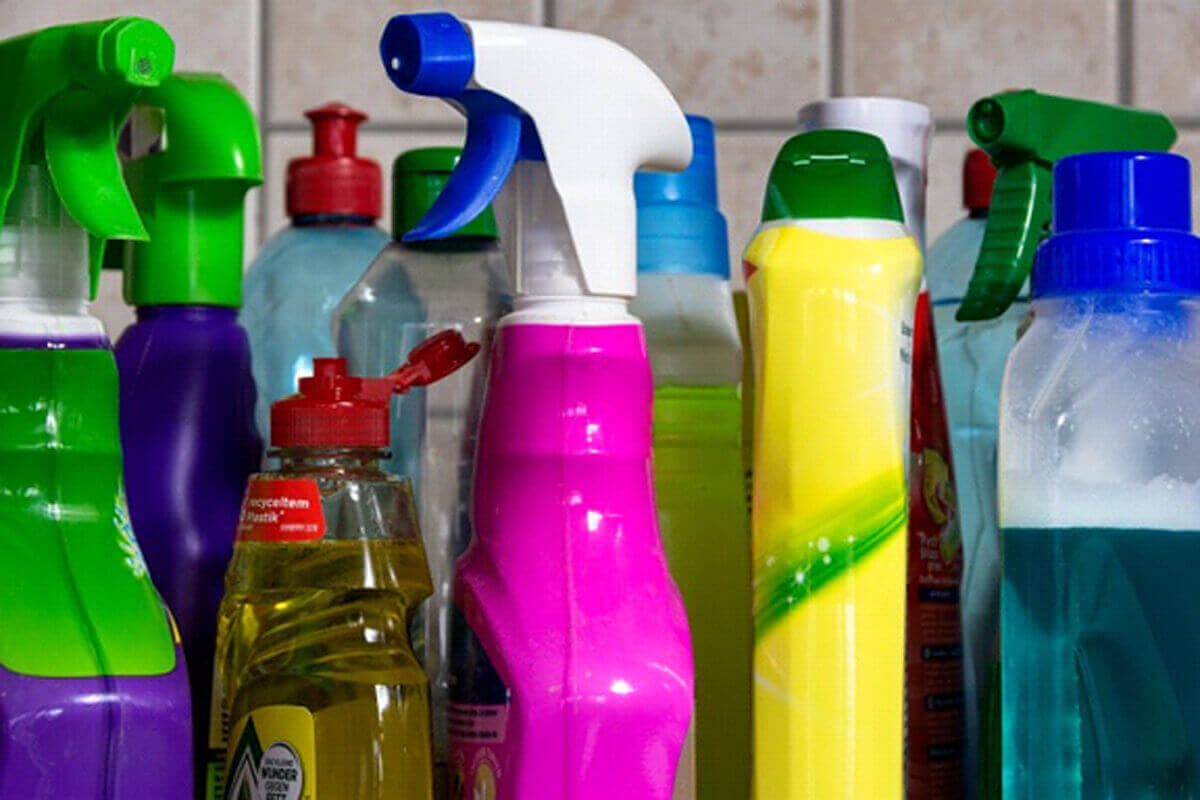cleaner: (378, 14, 702, 792), (955, 86, 1200, 787), (1, 18, 197, 800), (205, 329, 493, 800), (794, 98, 979, 800), (741, 130, 913, 800), (615, 99, 759, 799), (350, 140, 521, 705), (116, 66, 261, 717), (234, 87, 394, 408)
